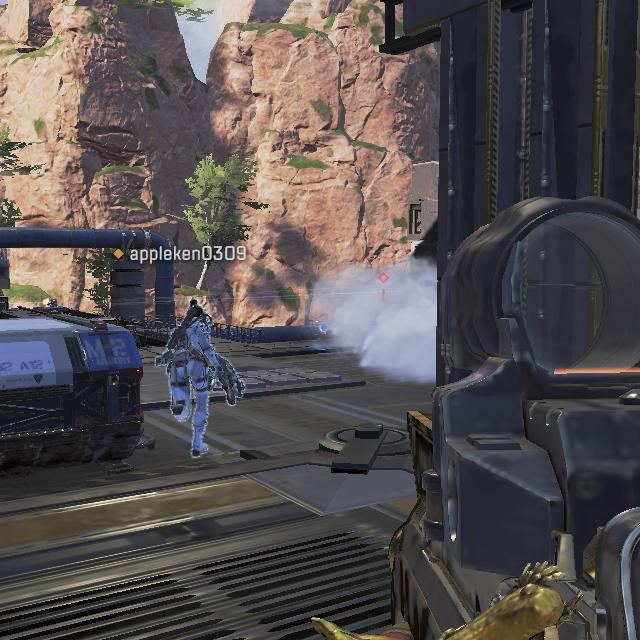avatar: (165, 296, 220, 460)
